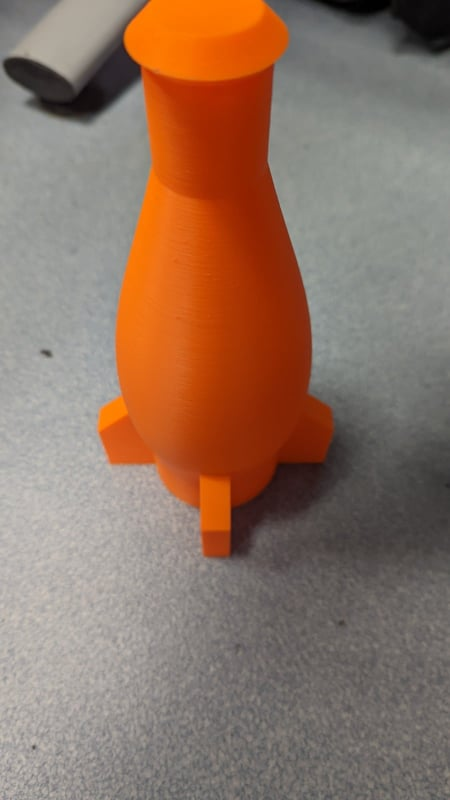bottle: (73, 1, 353, 560)
